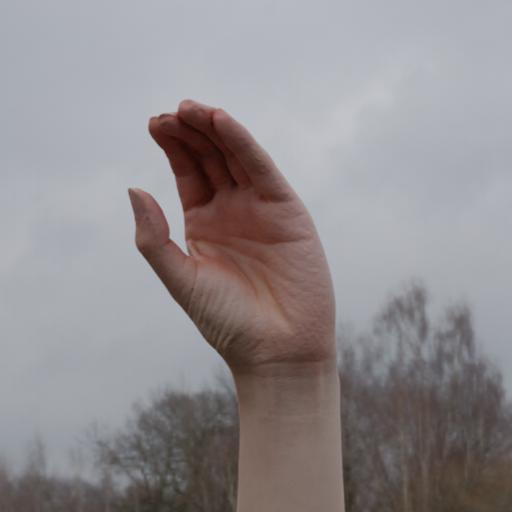C: (118, 82, 372, 412)
